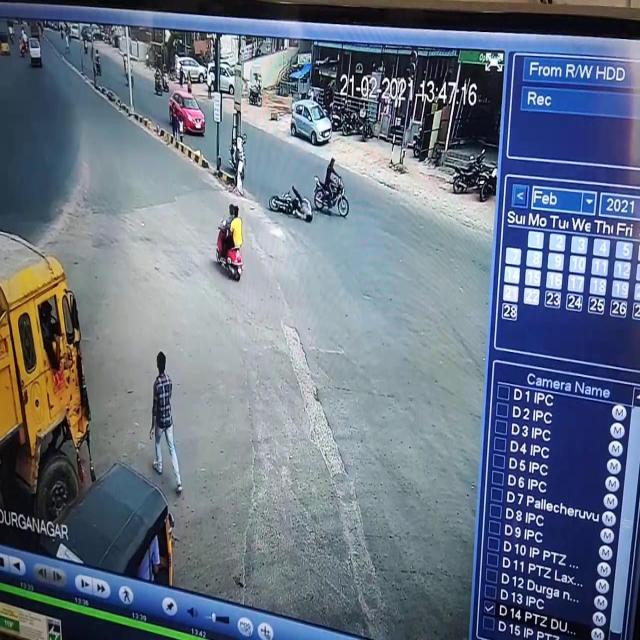accident: (264, 175, 321, 234)
